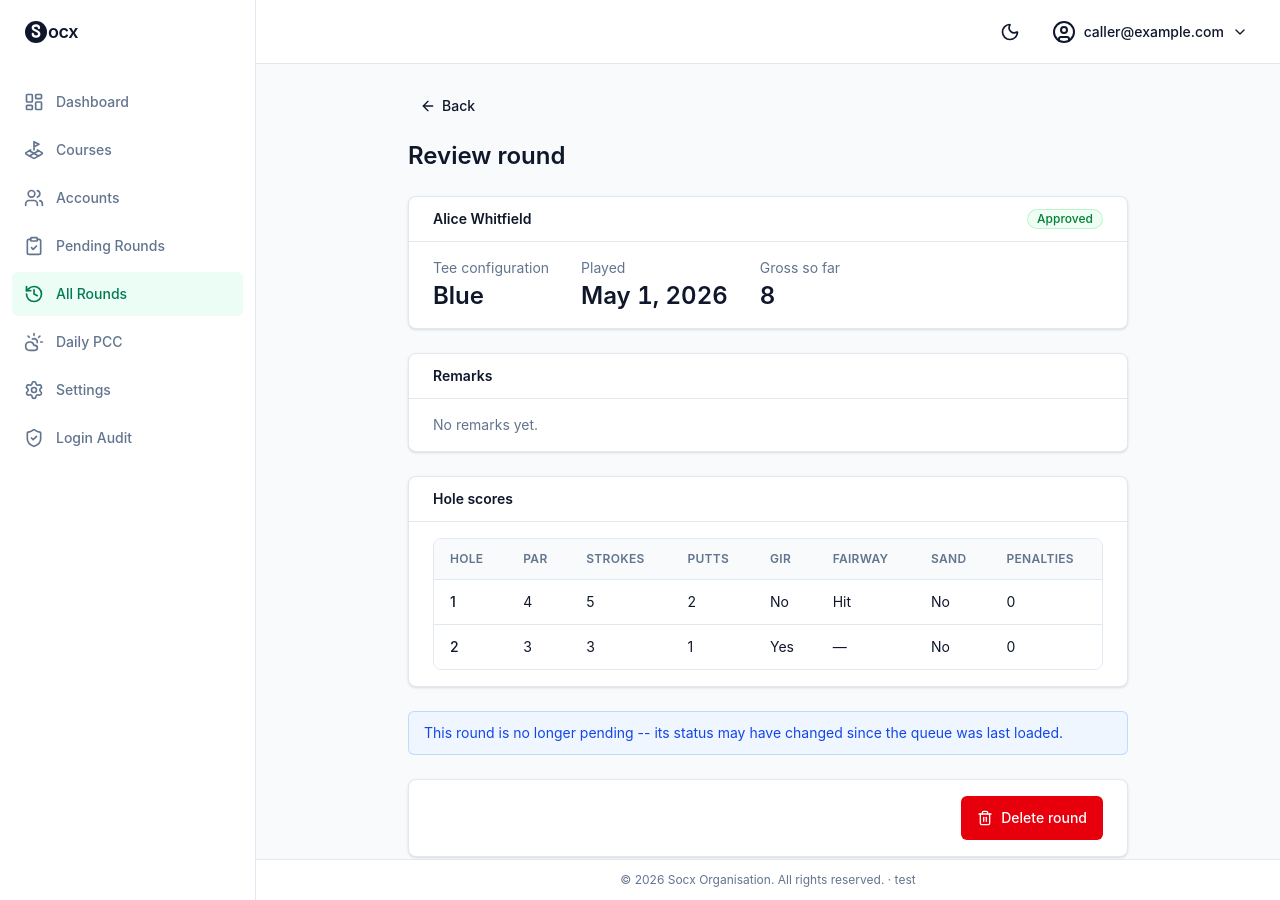
Test: AdminRoundReviewPage › delete › mentions handicap recalculation in the confirmation when the round has a recorded score
Click the button "Delete round" at [1032, 818], box [961,796,1103,840]
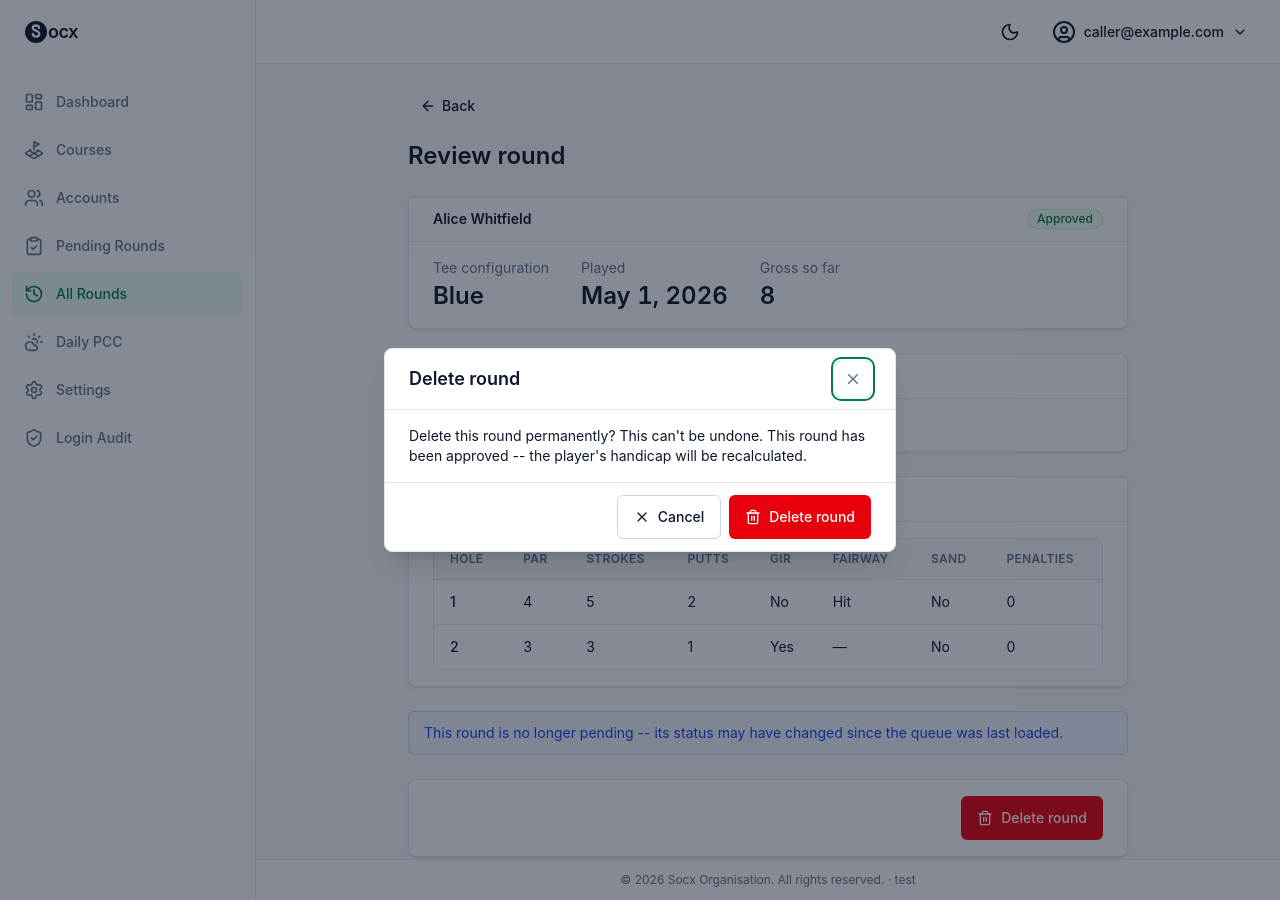
Expected: the dialog "Delete round" shows "handicap will be recalculated", [409,427,865,464]
